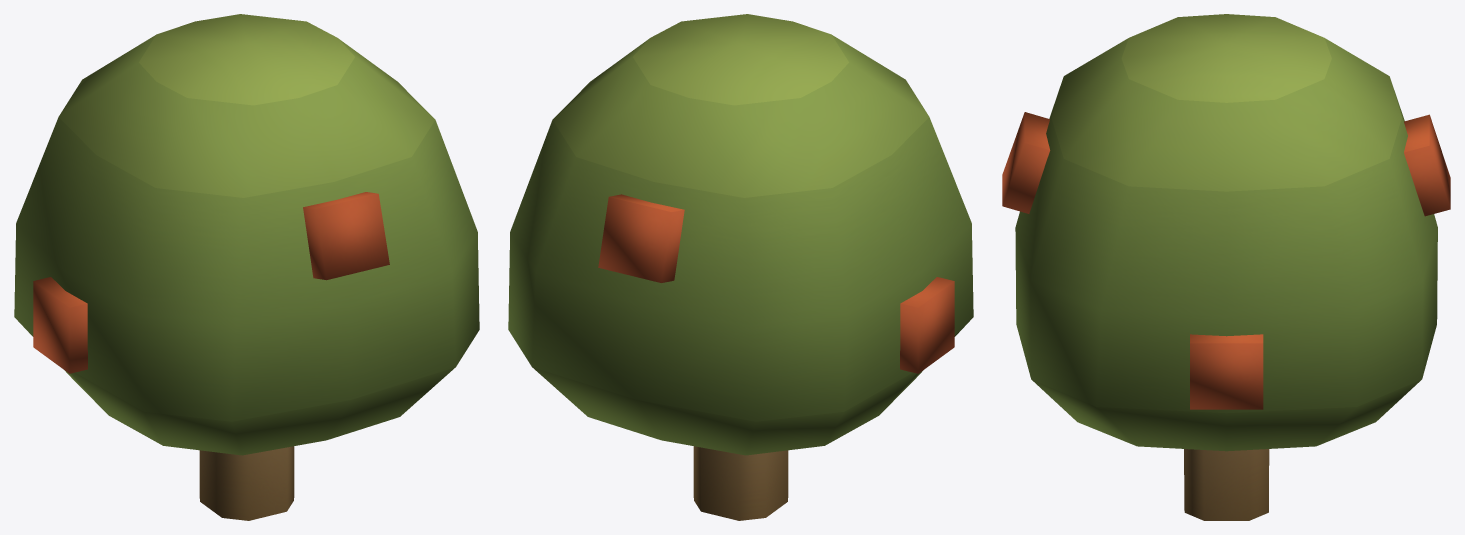
File: bush_plant_stem.fbx
The picture shows the model from 3 angles, left to right: view 1: azimuth 30°, elevation 25°; view 2: azimuth 150°, elevation 25°; view 3: azimuth 270°, elevation 25°; orthographic projection.
Visible parts, largest first — view 1: bush_plant_stem; view 2: bush_plant_stem; view 3: bush_plant_stem.
Boxes of the visible parts, box(x1,y1,x2,y2) form: bush_plant_stem: box(14, 14, 479, 520); bush_plant_stem: box(508, 14, 973, 520); bush_plant_stem: box(1002, 14, 1450, 520).
Size of the model in its own units: 78.04 by 86.89 by 76.9.
